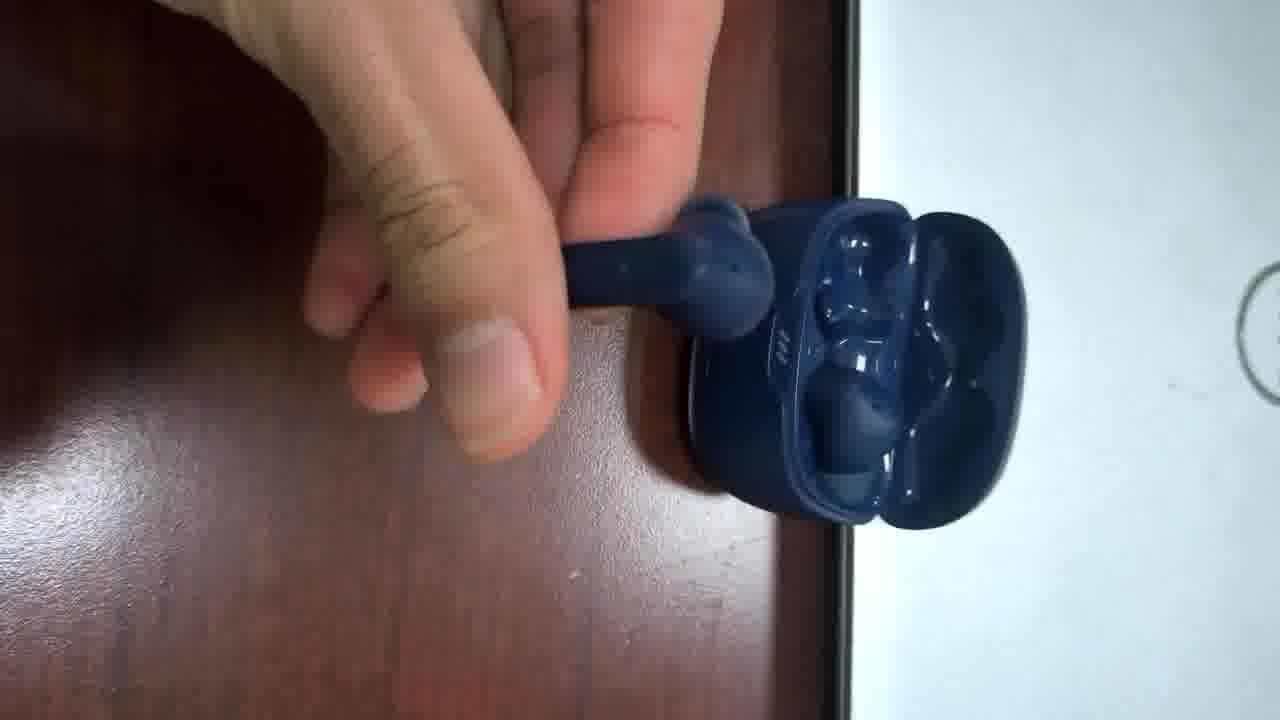Earbud: (561, 195, 774, 339), (804, 364, 903, 472)
